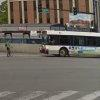Bus: (39, 25, 96, 64)
